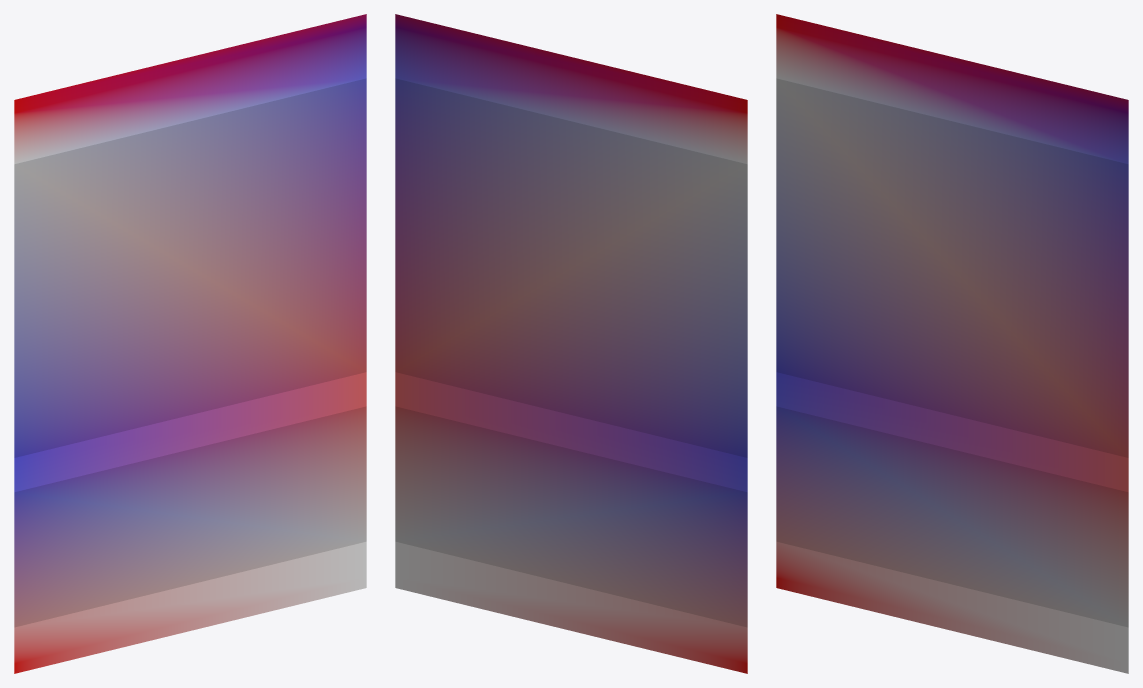
3 views of the same model, side by side, from view 1: azimuth 30°, elevation 25°; view 2: azimuth 150°, elevation 25°; view 3: azimuth 330°, elevation 25° (orthographic).
Visible parts, largest first — view 1: SM_Bathroom_Wall_01_LOD0; view 2: SM_Bathroom_Wall_01_LOD0; view 3: SM_Bathroom_Wall_01_LOD0.
Part boxes in pixels (bbox=[...]): SM_Bathroom_Wall_01_LOD0: bbox=[14, 14, 366, 673]; SM_Bathroom_Wall_01_LOD0: bbox=[395, 14, 747, 673]; SM_Bathroom_Wall_01_LOD0: bbox=[776, 14, 1128, 673].
Bounding box in the file's own units: 225 × 2.68e-05 × 350.
